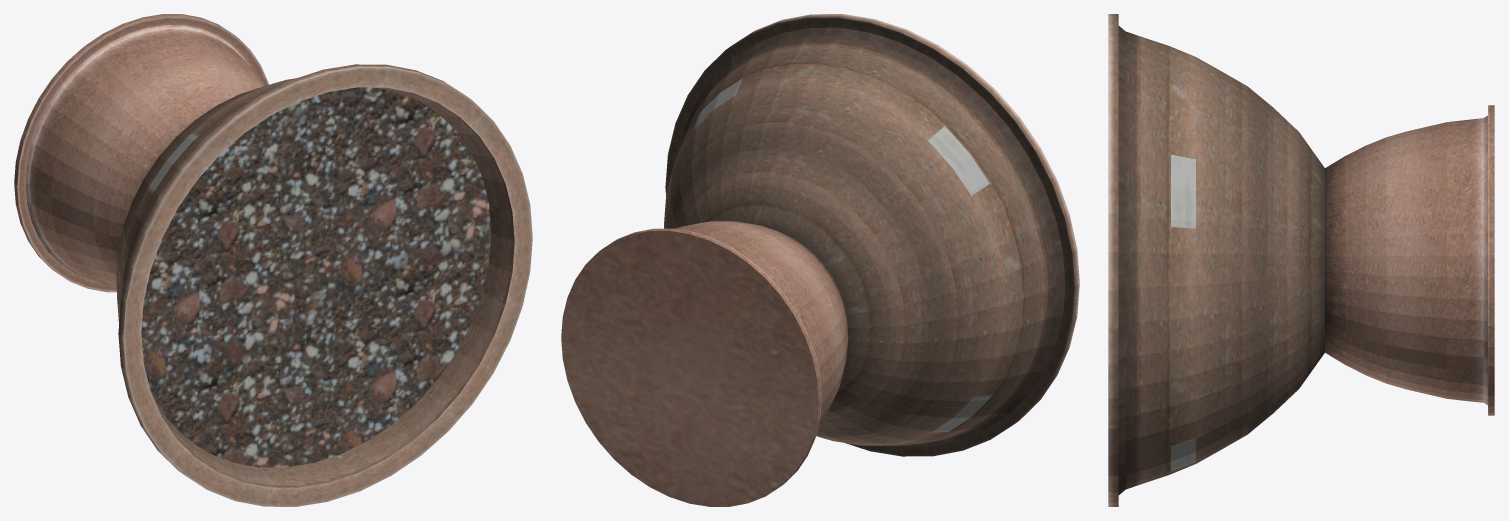
Rendered from RTE2901220907_0324L_01_normalization.obj.
3 renders of one model, left to right at view 1: azimuth 30°, elevation 25°; view 2: azimuth 150°, elevation 25°; view 3: azimuth 270°, elevation 25°, orthographic. The views are drawn at different scales.
Parts seen in each view (by area): view 1: RTE2901220907_0324S_01; view 2: RTE2901220907_0324S_01; view 3: RTE2901220907_0324S_01.
Part boxes in pixels (<box>): RTE2901220907_0324S_01: <box>14,14,532,506</box>; RTE2901220907_0324S_01: <box>561,14,1079,506</box>; RTE2901220907_0324S_01: <box>1108,14,1494,506</box>.
Size of the model in its own units: 0.6186 by 0.6186 by 0.4844.
Materials: 1 (1 with a texture image).
